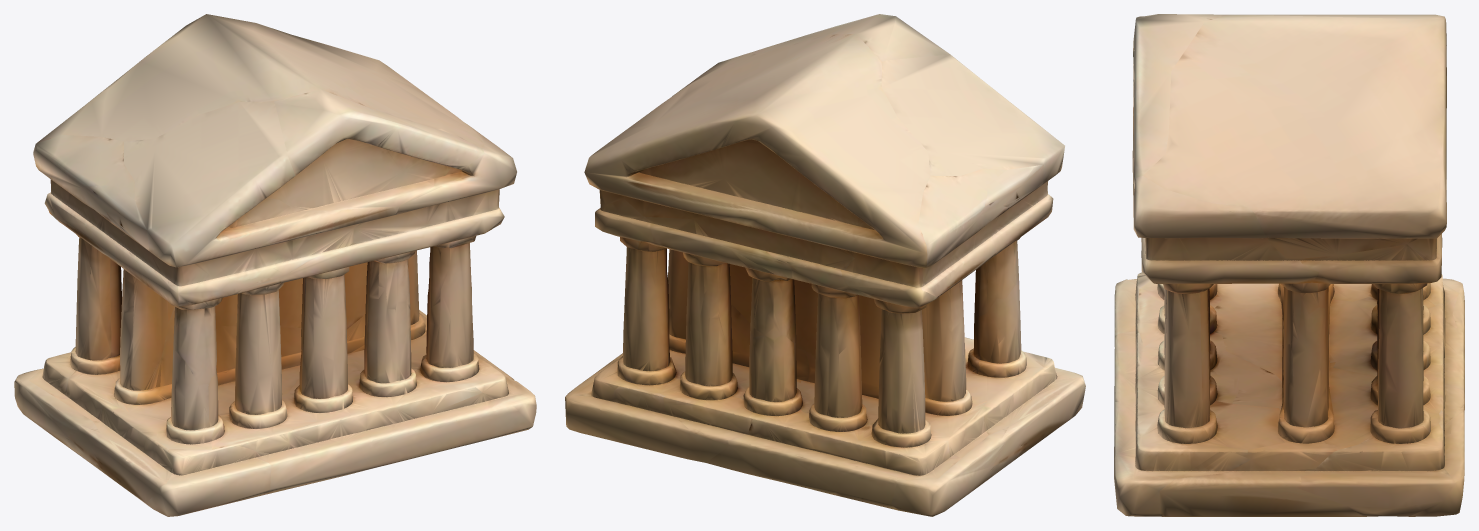
File: parthenon_pbr.glb
3 views of the same model, side by side, from view 1: azimuth 30°, elevation 25°; view 2: azimuth 150°, elevation 25°; view 3: azimuth 270°, elevation 25° (orthographic). The views are drawn at different scales.
Parts seen in each view (by area): view 1: model; view 2: model; view 3: model.
Boxes of the visible parts, bbox=[...] form: model: bbox=[14, 14, 536, 516]; model: bbox=[565, 14, 1085, 516]; model: bbox=[1114, 14, 1464, 516].
Size of the model in its own units: 1.85 by 1.68 by 1.33.
1 material, 1 textured.
